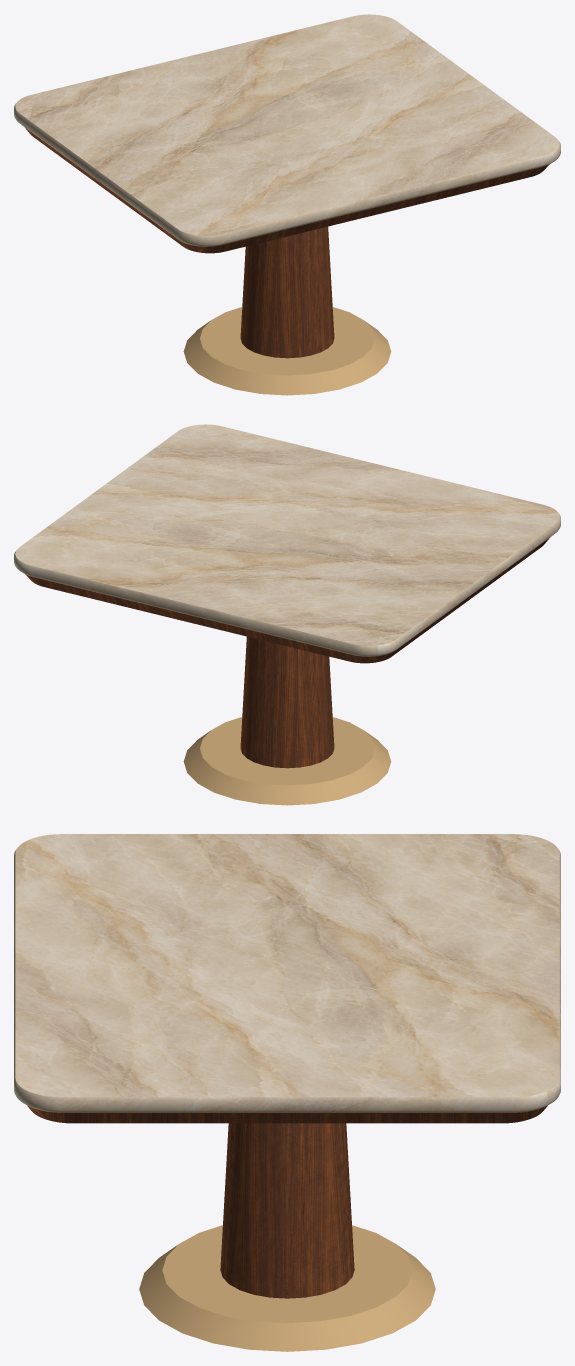
The model's file is SaloonRectangularTableFor4.glb.
The picture shows the model from 3 angles, top to bottom: view 1: azimuth 30°, elevation 25°; view 2: azimuth 150°, elevation 25°; view 3: azimuth 270°, elevation 25°; orthographic projection. The views are drawn at different scales.
Visible parts, largest first — view 1: Champagne edge; view 2: Champagne edge; view 3: Champagne edge.
Part boxes in pixels (box(x1,y1,x2,y2)): Champagne edge: box(14, 14, 560, 395); Champagne edge: box(14, 424, 560, 805); Champagne edge: box(14, 834, 560, 1351).
Bounding box in the file's own units: 1.35 × 0.77 × 1.18.
3 materials, 2 textured.
